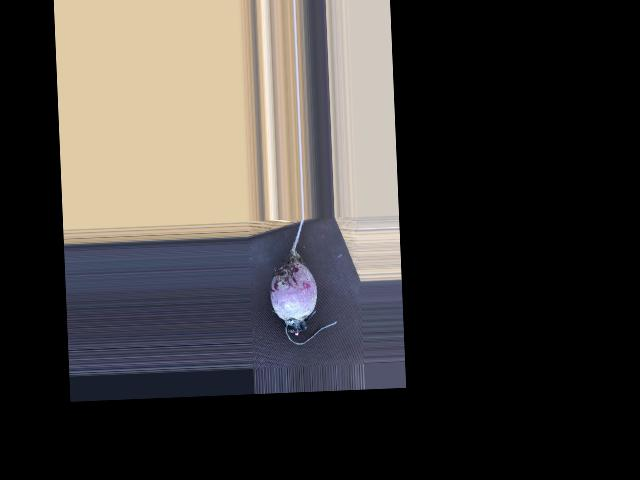beet: (266, 216, 337, 345)
